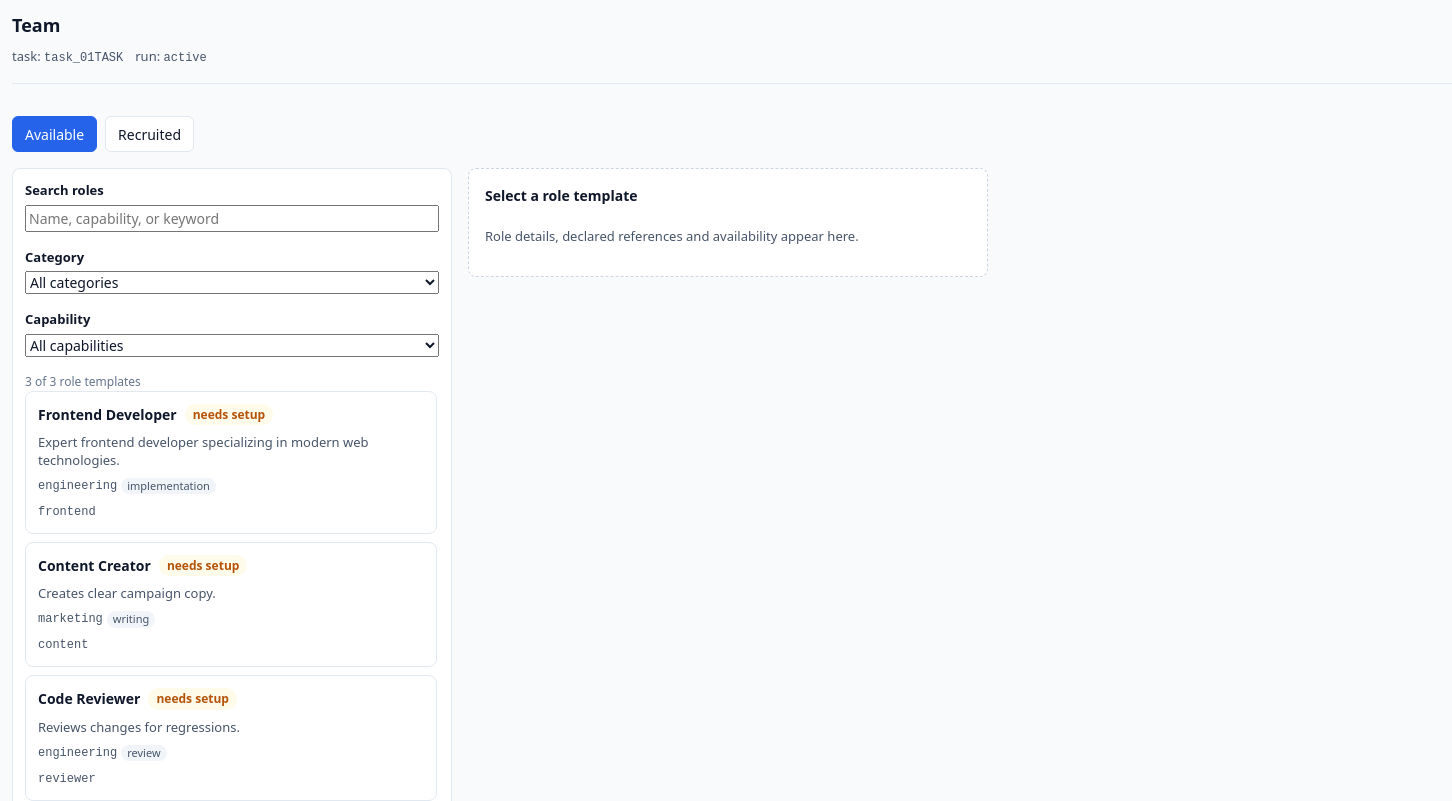
LG-120 complete Available role library › searches and filters by category and capability across the whole catalog
The width and height of the screenshot is (1452, 801).
Expected: the text "3 of 3 role templates" is shown, x1=25 y1=372 x2=141 y2=390
Step 1. Type "campaign" into the search field labelled "Search roles" → (232, 218), box x1=25 y1=204 x2=439 y2=232
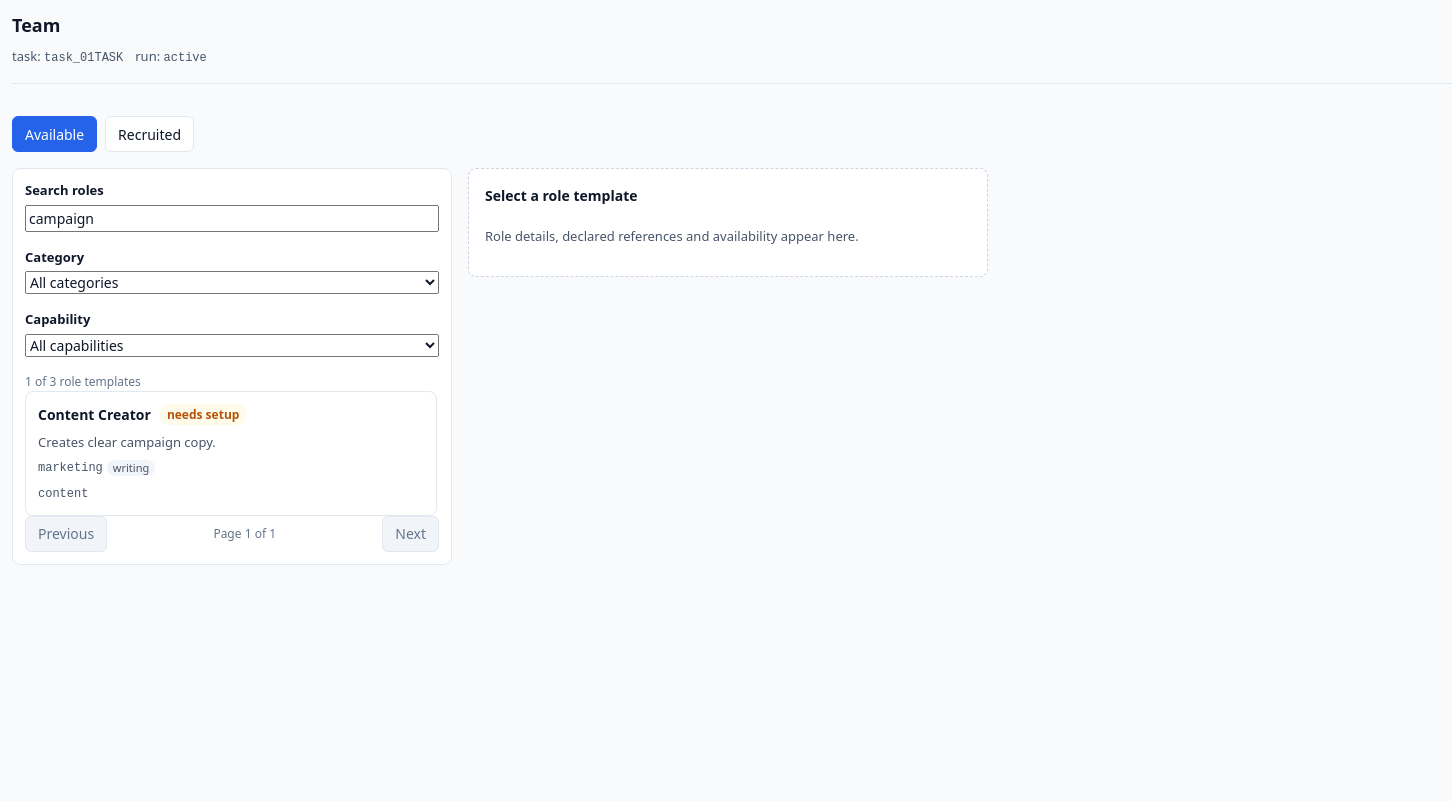
Expected: the button "Content Creator" is shown, x1=25 y1=390 x2=437 y2=516
Now the text "1 of 3 role templates" is shown, box x1=25 y1=372 x2=141 y2=390
Now the button "Frontend Developer" is gone
Step 2. Clear the search field labelled "Search roles" → (232, 218), box x1=25 y1=204 x2=439 y2=232
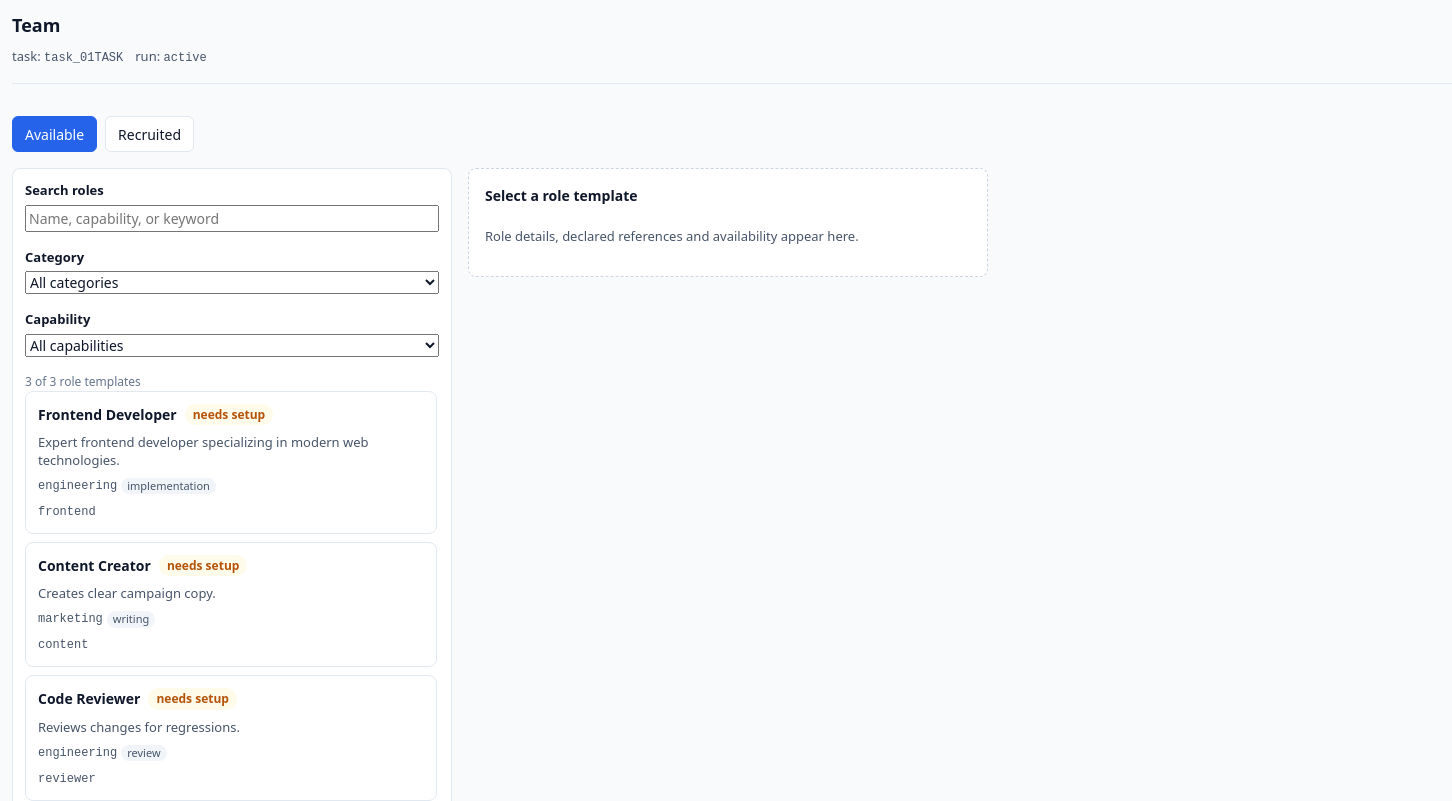
Step 3. Select "engineering" in the dropdown labelled "Category" → (232, 282), box x1=25 y1=271 x2=439 y2=294
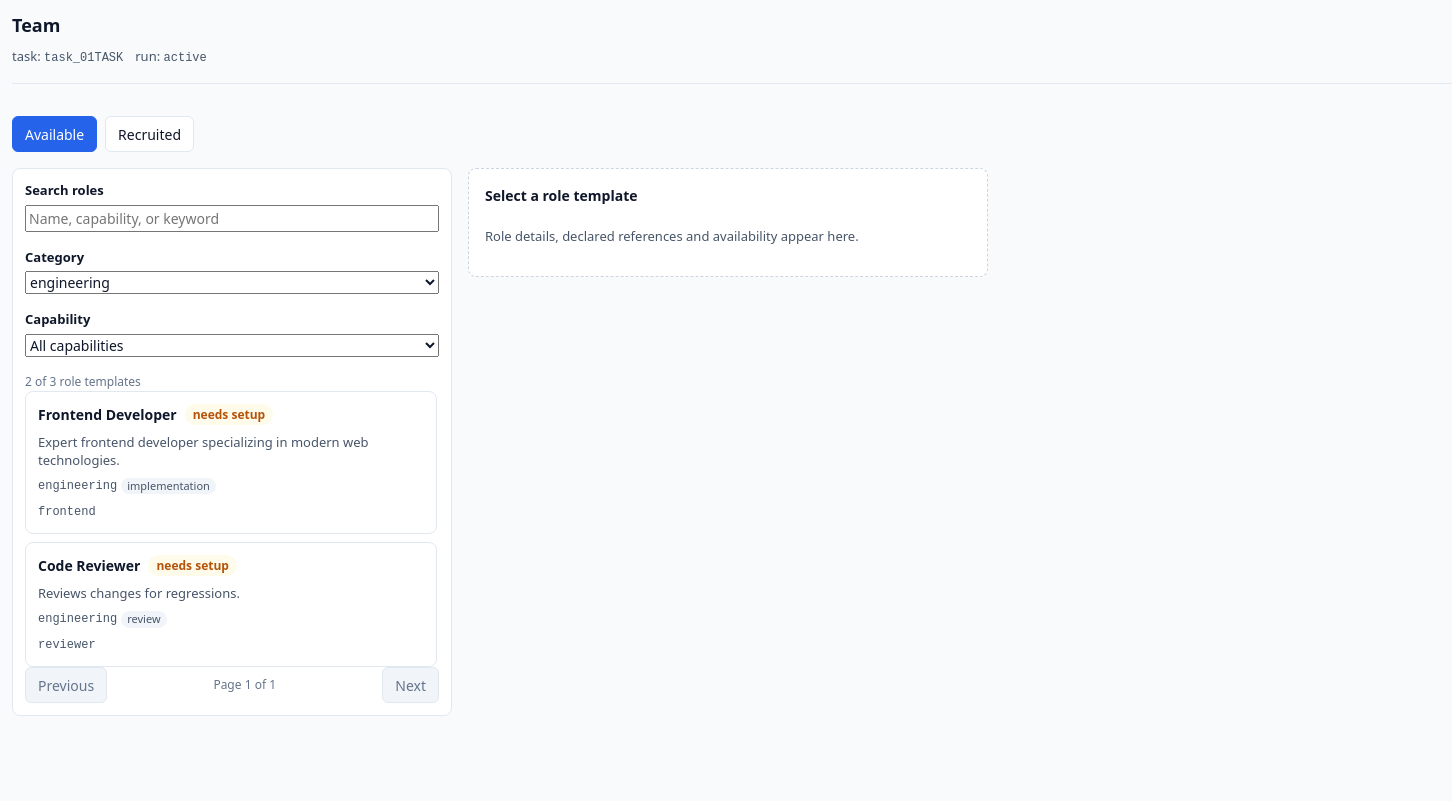
Now the text "2 of 3 role templates" is shown, box x1=25 y1=372 x2=141 y2=390
Step 4. Select "review" in the dropdown labelled "Capability" → (232, 345), box x1=25 y1=334 x2=439 y2=356
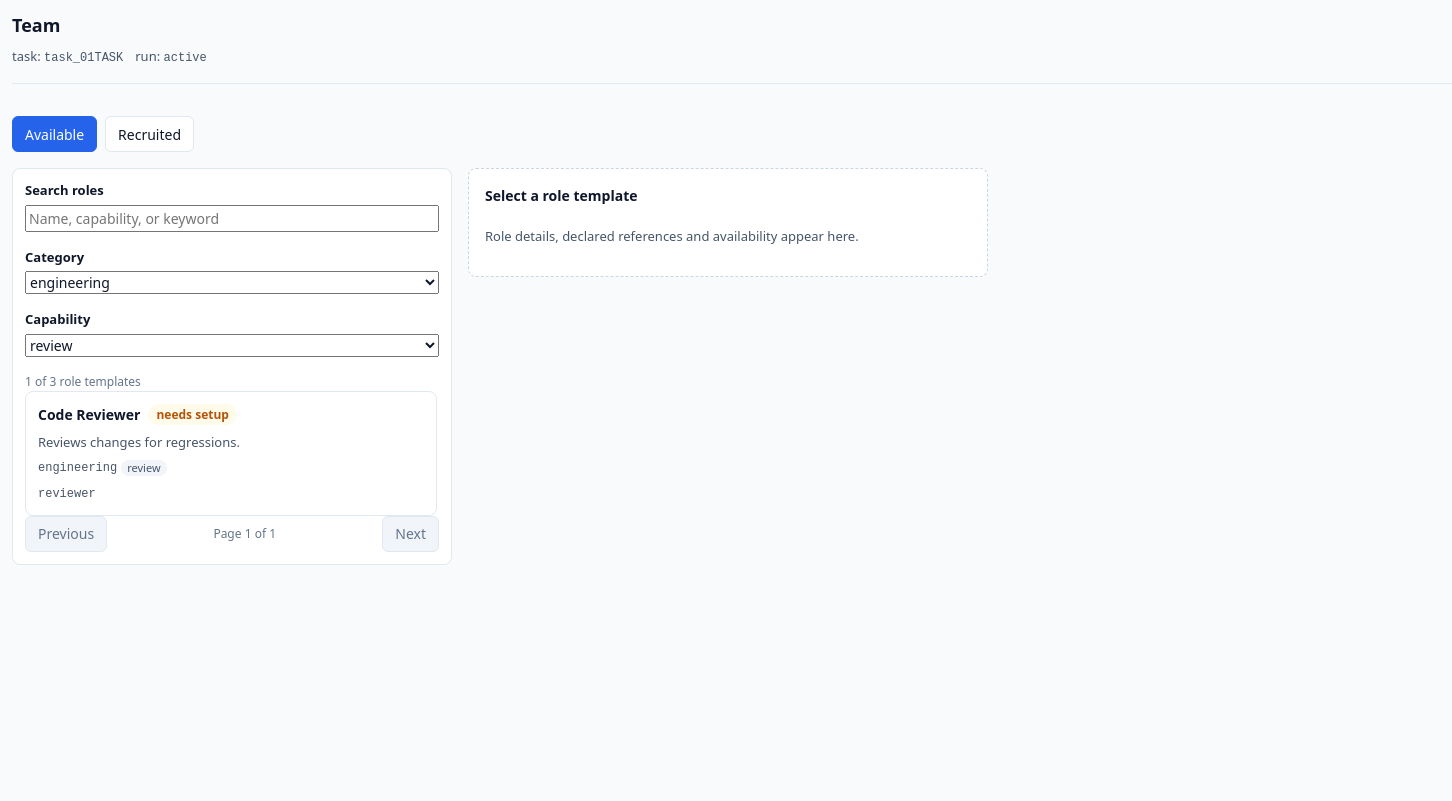
Now the text "1 of 3 role templates" is shown, box x1=25 y1=372 x2=141 y2=390
